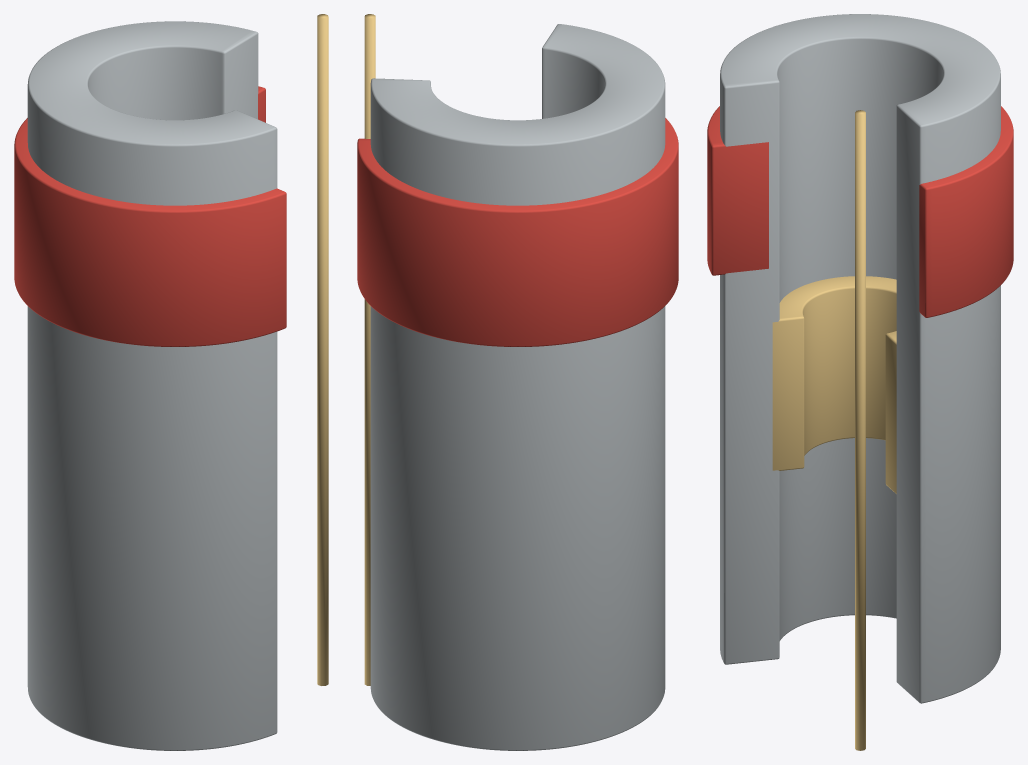
Rendered from icv.glb.
The picture shows the model from 3 angles, left to right: view 1: azimuth 30°, elevation 25°; view 2: azimuth 150°, elevation 25°; view 3: azimuth 270°, elevation 25°; orthographic projection. The views are drawn at different scales.
Parts seen in each view (by area): view 1: ICV housing, Actuator section, Hydraulic line; view 2: ICV housing, Actuator section, Hydraulic line; view 3: ICV housing, Actuator section, Flow trim, Hydraulic line.
Part boxes in pixels (<box>): ICV housing: <box>27,21,277,750</box>; Actuator section: <box>14,86,286,346</box>; Hydraulic line: <box>317,14,328,685</box>; ICV housing: <box>370,24,665,750</box>; Actuator section: <box>357,118,678,346</box>; Hydraulic line: <box>364,14,375,685</box>; ICV housing: <box>720,14,1000,703</box>; Actuator section: <box>707,106,1013,317</box>; Flow trim: <box>772,276,896,493</box>; Hydraulic line: <box>855,110,865,750</box>.
Size of the model in its own units: 2.01 by 4.4 by 1.92.
